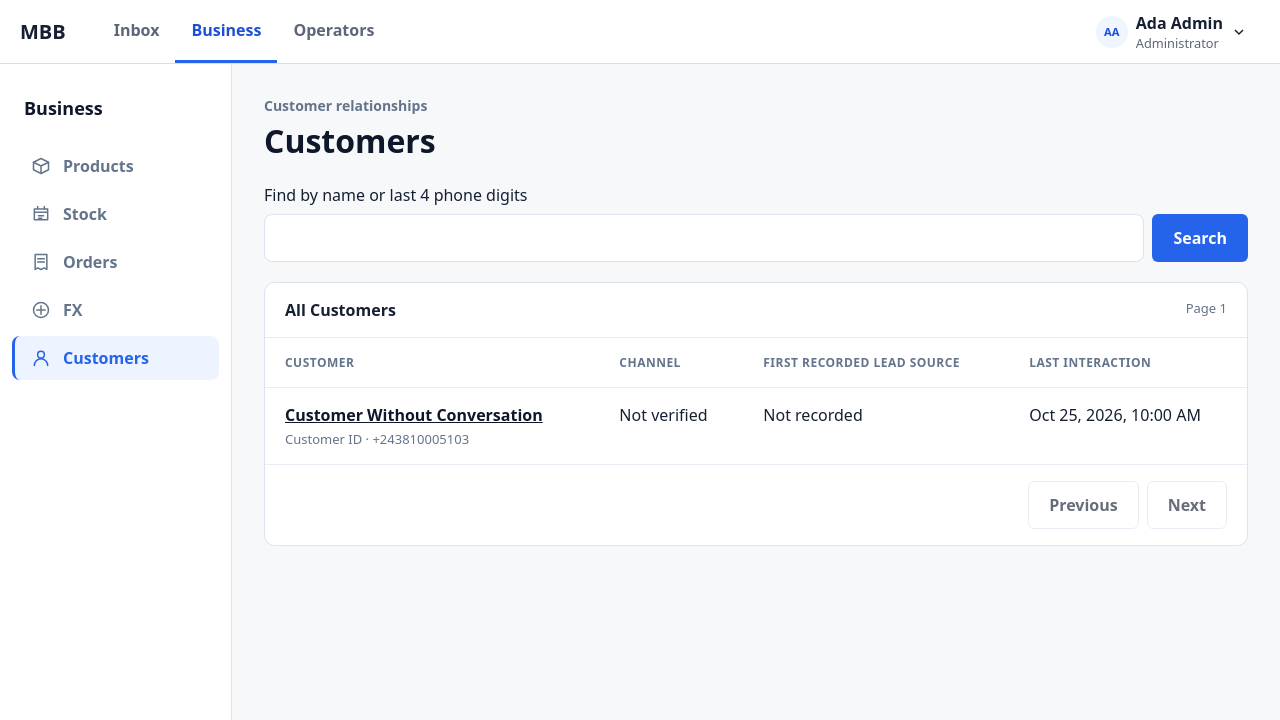
Test: Customers workspace › keeps a permanent Customer in the index without a Conversation or Lead
The image size is (1280, 720).
Click the link "Customer Without Conversation".
click(414, 415)  # box [285,404,543,426]
(page scrolled)
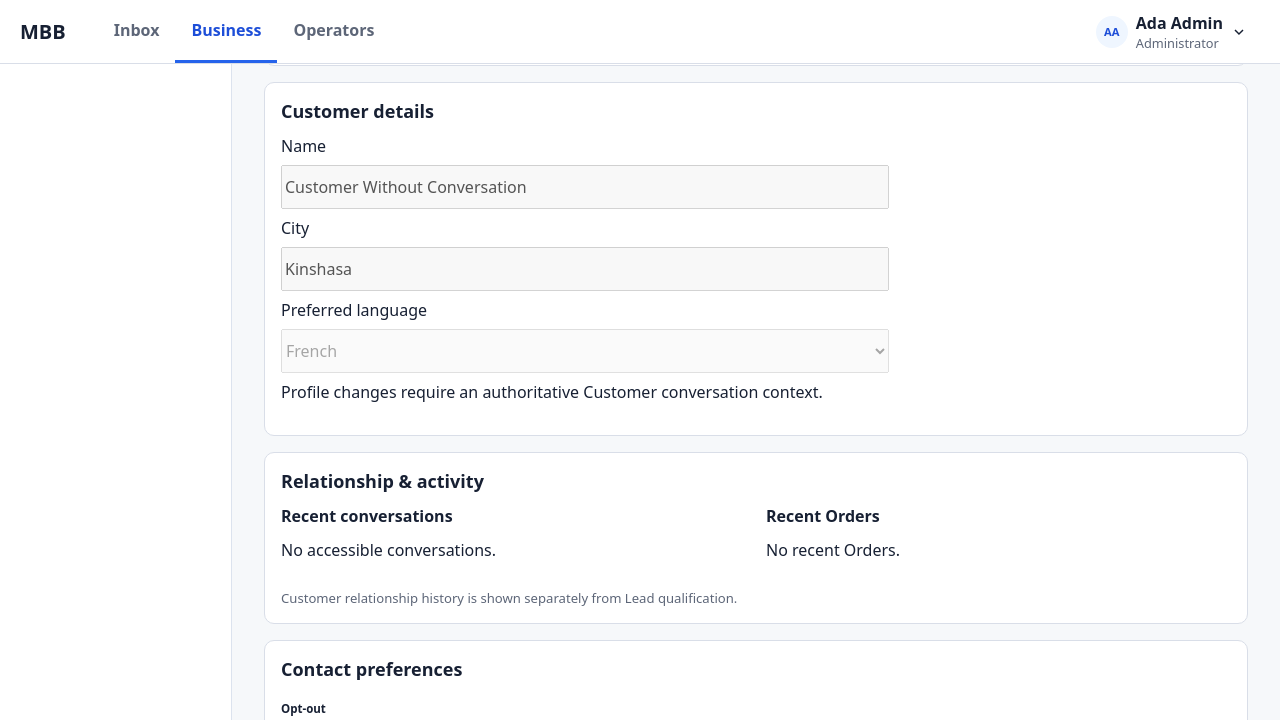
expect the text "No accessible conversations." is shown: met, box [281,539,496,561]
expect the text "No recent Orders." is shown: met, box [766,539,900,561]
expect the text "require an authoritative Customer conversation context" is shown: met, box [281,381,823,403]
